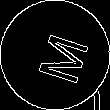M_W: (24, 25, 86, 85)
